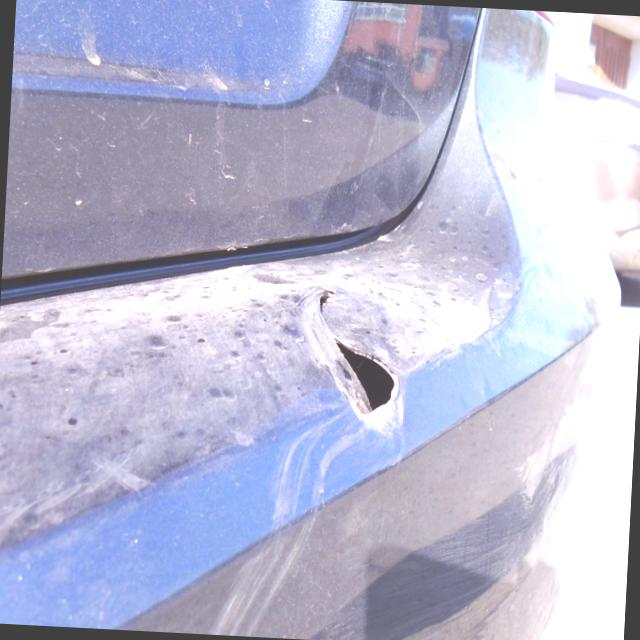Dechirure: (307, 281, 405, 435)
Rayure: (402, 502, 562, 630)
